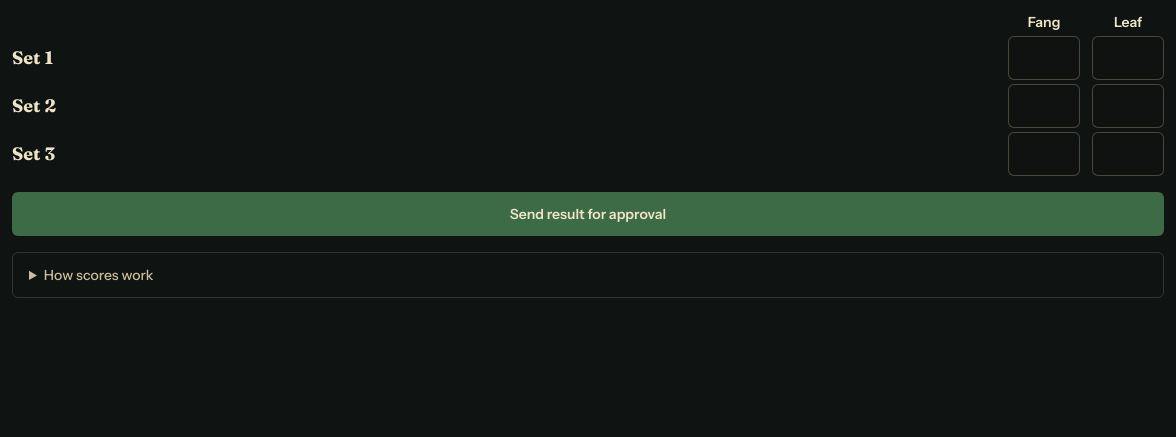
Test: score form › shows the database's own message if the server refuses
The image size is (1176, 437).
In the field labelled "Set 1": point(1044, 58) [1008,36,1080,80], type "6"
In the field named "Set 1, Leaf games": point(1128, 58) [1092,36,1164,80], type "0"
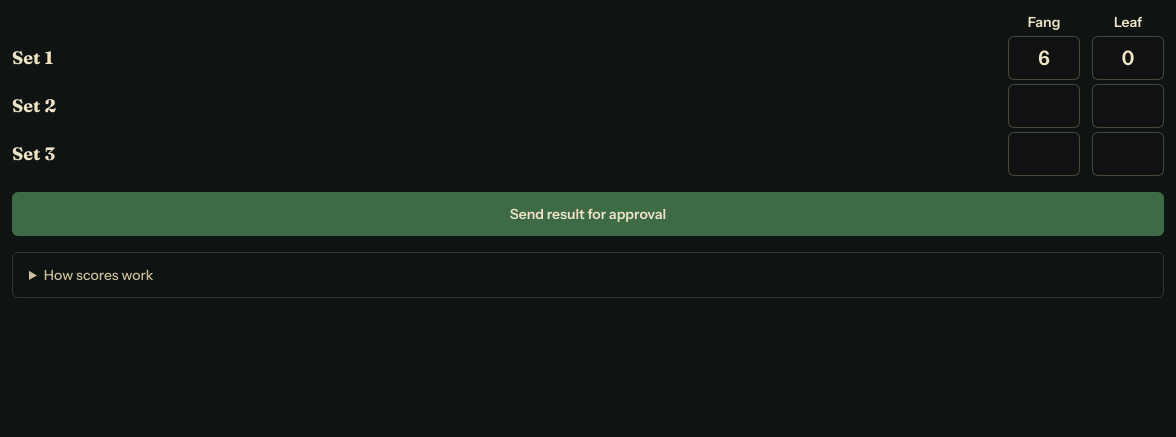
In the field labelled "Set 2": point(1044, 106) [1008,84,1080,128], type "6"
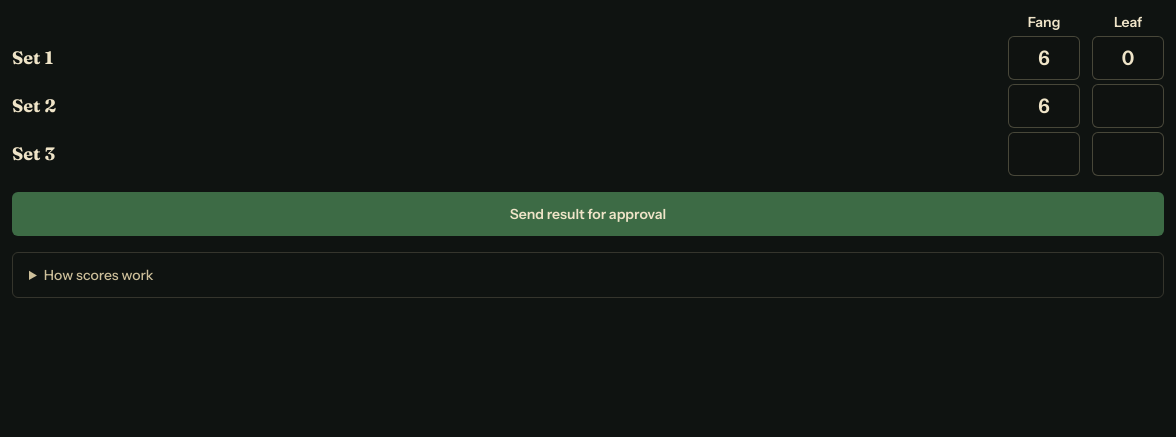
In the field named "Set 2, Leaf games": point(1128, 106) [1092,84,1164,128], type "0"
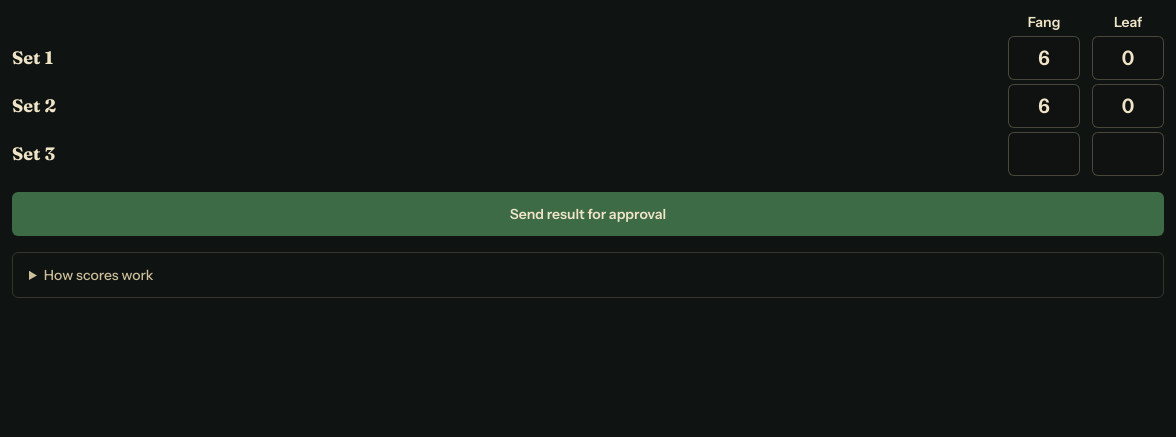
In the field labelled "Set 3": point(1044, 154) [1008,132,1080,176], type "6"
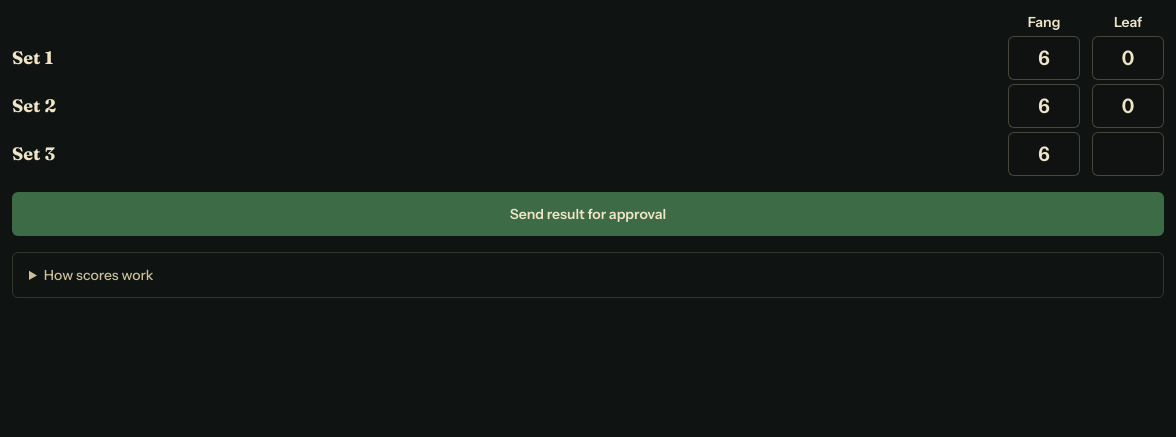
In the field named "Set 3, Leaf games": point(1128, 154) [1092,132,1164,176], type "0"
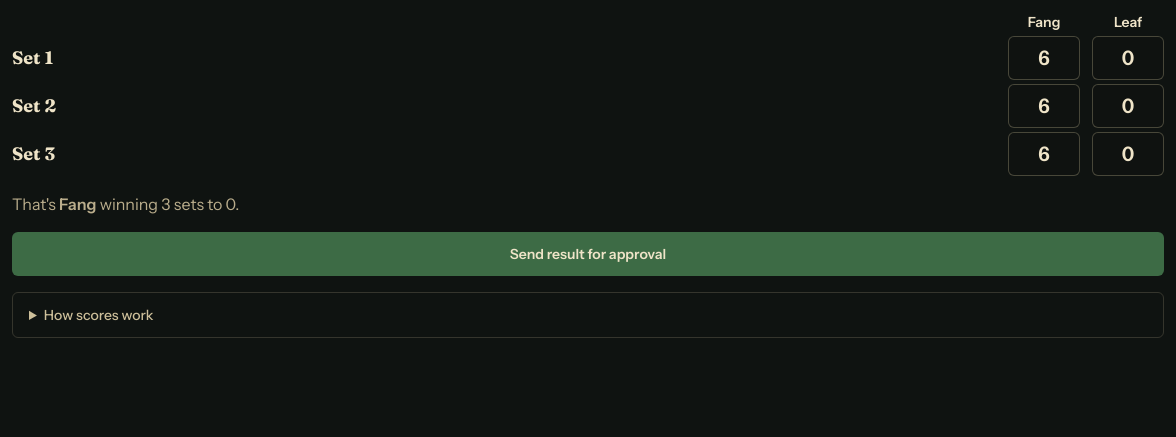
Click the button "Send result for approval": point(588, 254) [12,232,1164,276]
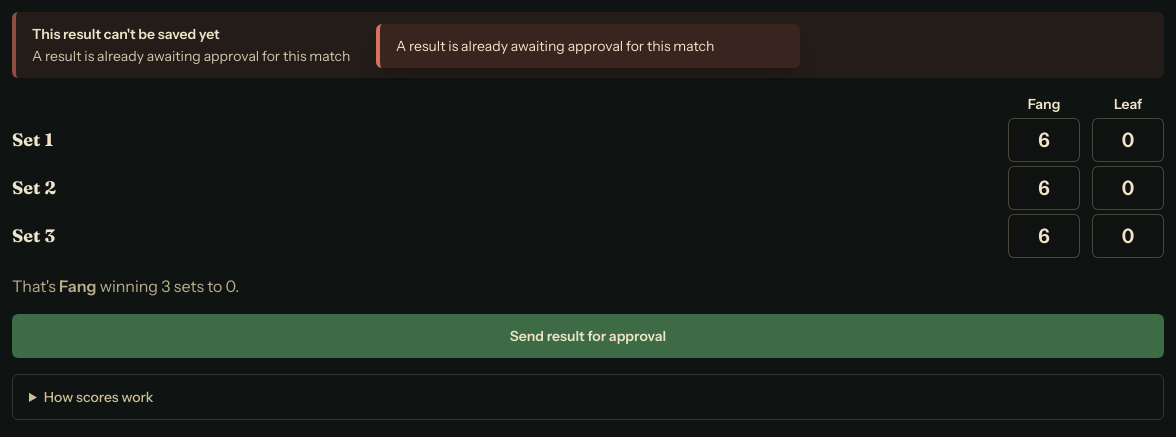
expect the message shows "already awaiting approval": met, box [32,47,350,65]
